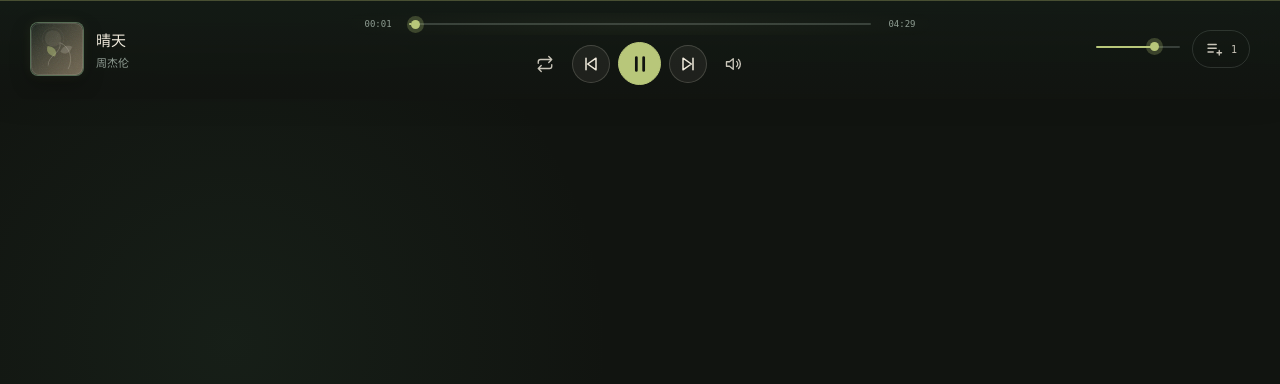
native player bridge › shows a stable playback error and retries the last native action
This screenshot has width=1280, height=384.
Expected: the text "晴天" is shown, x1=96 y1=28 x2=129 y2=50
Click the button named "暂停": (640, 64) x1=618 y1=42 x2=662 y2=85
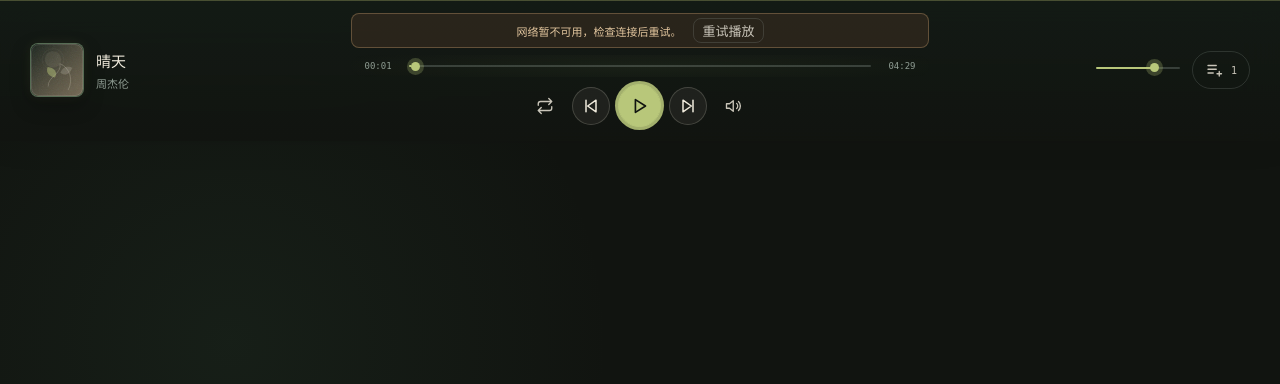
Now the message shows "网络暂不可用", box x1=516 y1=24 x2=682 y2=38
Click the button "重试播放": (728, 30) x1=694 y1=18 x2=764 y2=43
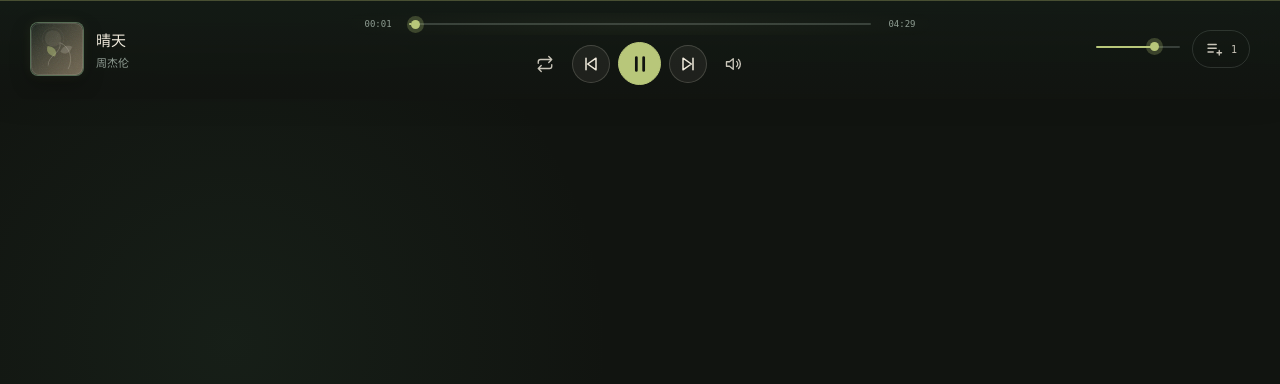
Now the message "网络暂不可用，检查连接后重试。 重试播放" is gone
